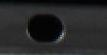holes: (25, 13, 66, 45)
